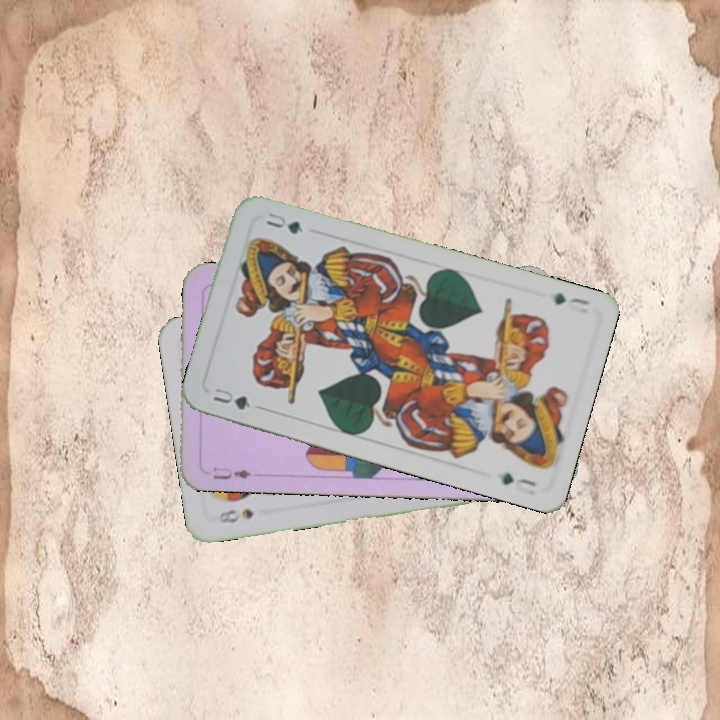EU: (209, 463, 254, 482)
GU: (209, 382, 253, 413), (549, 288, 593, 308)
S8: (215, 504, 257, 526)
